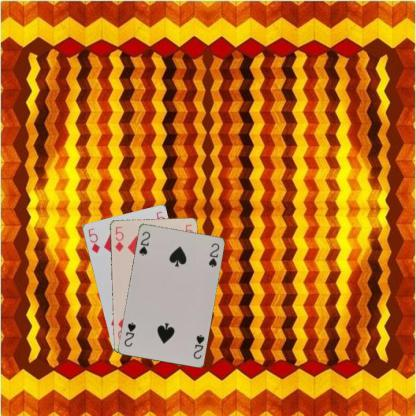2s: (190, 332, 206, 360), (136, 229, 152, 256)
5d: (86, 225, 100, 254), (112, 224, 124, 253)
